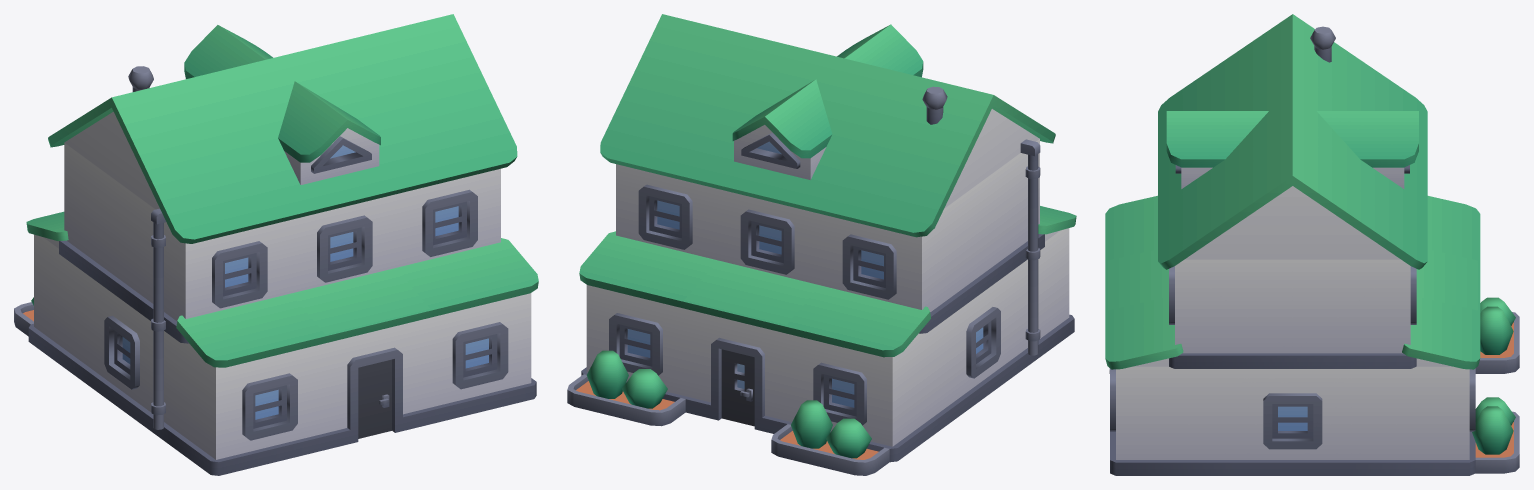
Rendered from house_suburb_t.glb.
3 renders of one model, left to right at view 1: azimuth 30°, elevation 25°; view 2: azimuth 150°, elevation 25°; view 3: azimuth 270°, elevation 25°, orthographic. The views are drawn at different scales.
Visible parts, largest first — view 1: building-type-t; view 2: building-type-t; view 3: building-type-t.
Part boxes in pixels (x1,y1,x2,y2): building-type-t: (14, 14, 538, 475); building-type-t: (567, 14, 1076, 475); building-type-t: (1105, 14, 1519, 475).
Bounding box in the file's own units: 1.31 × 1.16 × 1.41.
Materials: 1 (1 with a texture image).
